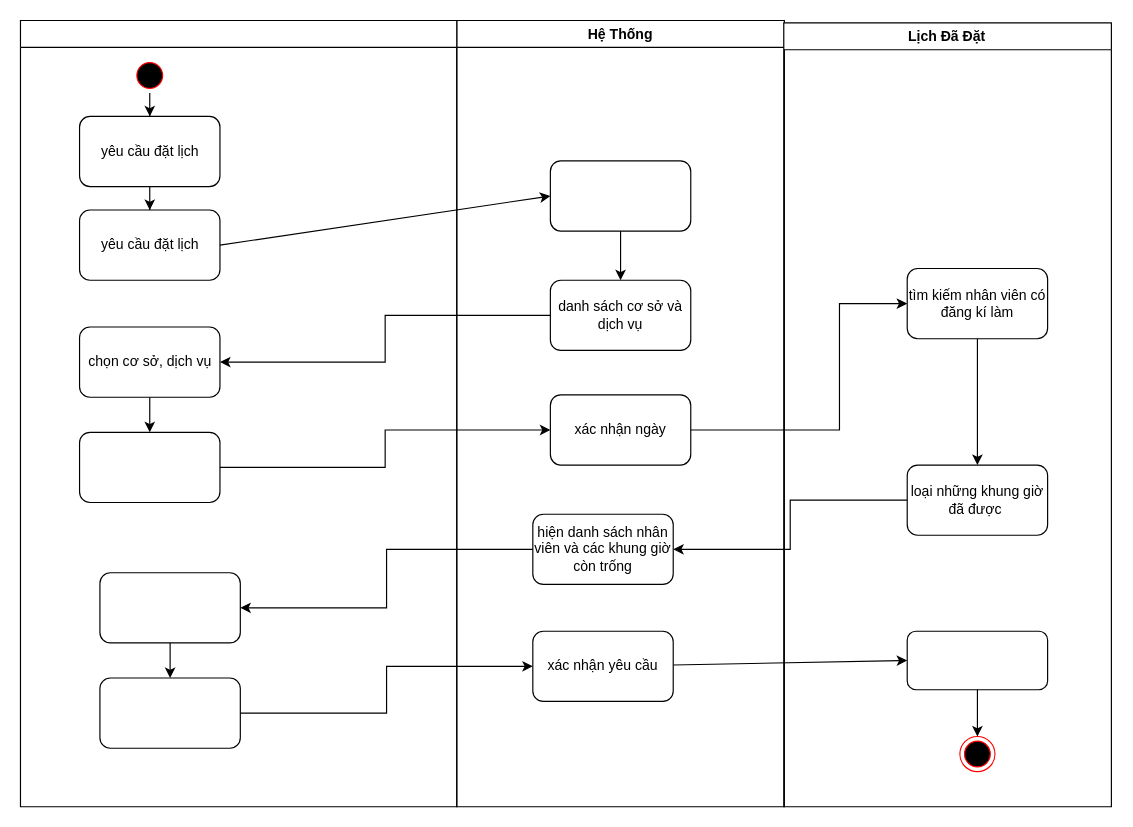
The diagram is 1133 pixels wide and 827 high, and some of its shapes have lost their labels. The shapes that lost their labels are listed below. From the top down, each one's box as (x1, y1, x2, y2) in pixels, then its label:
(549, 160, 691, 231): nhận yêu cầu
(19, 19, 457, 807): Khách hàng
(78, 431, 220, 503): chọn ngày
(99, 572, 240, 643): chọn nhân viên và chọn khung giờ trống
(906, 630, 1048, 690): lưu yêu lịch
(99, 677, 240, 748): gửi thông tin lịch muốn đặt
